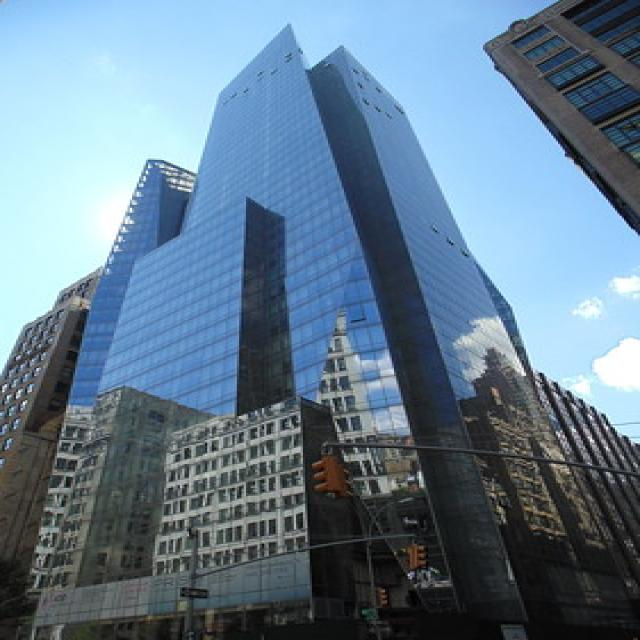building: (15, 17, 573, 634)
